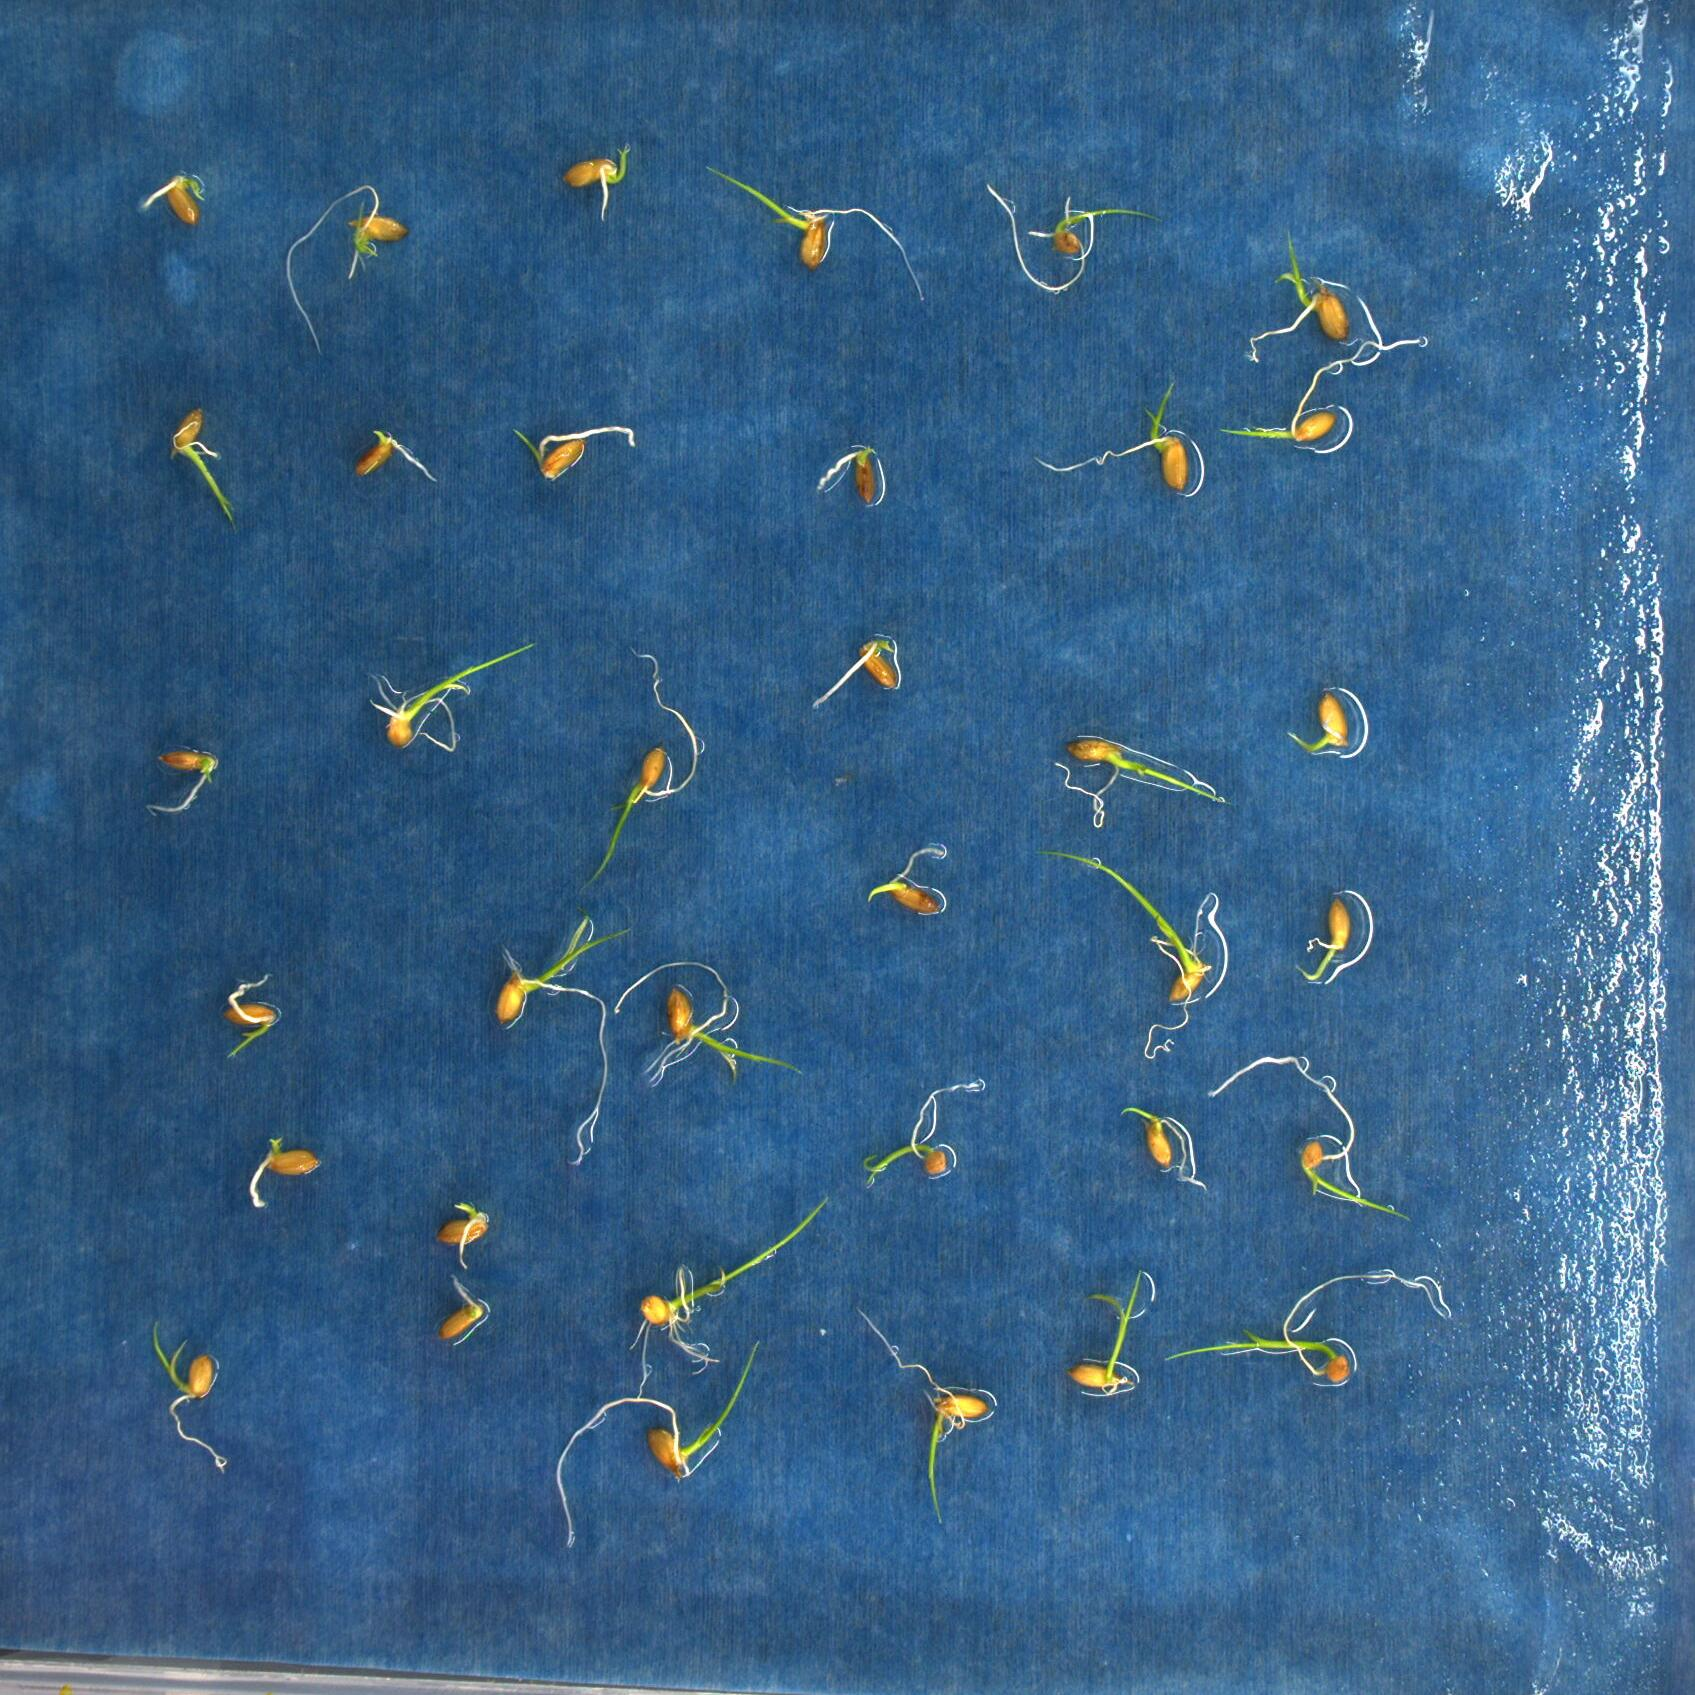not sprout: (140, 747, 214, 812), (248, 1138, 318, 1206), (355, 428, 438, 484), (813, 439, 882, 506), (438, 1274, 483, 1343)
sprout: (622, 1195, 832, 1391), (556, 1343, 761, 1540), (1042, 847, 1212, 1059), (490, 917, 630, 1164), (1208, 1052, 1408, 1218), (700, 166, 927, 304), (577, 640, 698, 897), (1164, 1271, 1448, 1378), (861, 1305, 984, 1524), (613, 959, 804, 1083), (1222, 341, 1426, 447), (286, 180, 407, 357), (981, 180, 1156, 295), (1032, 369, 1187, 494), (371, 646, 537, 751), (1049, 737, 1226, 827), (1245, 231, 1350, 357), (861, 1077, 983, 1186), (147, 1319, 227, 1475), (1066, 1267, 1146, 1395), (166, 407, 237, 523), (1118, 1108, 1211, 1194), (512, 425, 633, 483), (809, 627, 897, 705), (865, 847, 948, 919), (567, 144, 632, 224), (1293, 903, 1350, 986), (1284, 688, 1354, 753), (224, 972, 275, 1060), (140, 179, 206, 227), (438, 1205, 487, 1267)
